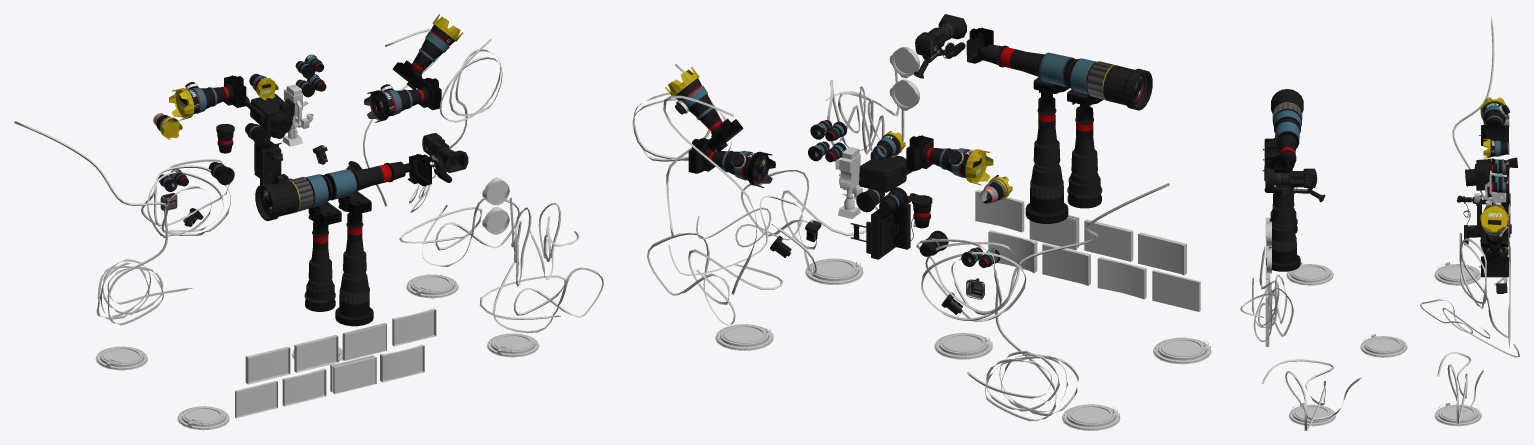
The model's file is Zvezda1.FBX.
3 views of the same model, side by side, from view 1: azimuth 30°, elevation 25°; view 2: azimuth 150°, elevation 25°; view 3: azimuth 270°, elevation 25° (orthographic). The views are drawn at different scales.
Parts seen in each view (by area): view 1: Box447, Lense004, Line111, Lense006 (×2), Group001, Lense003, Lense014, Lense005, Line128, Camera_B001, Camera001, Line115 (+14 smaller); view 2: Box447, Lense004, Group001, Line111, Lense006 (×2), Lense003, Lense005, Lense014, Lense013, Camera001, Line115, Camera_B001 (+15 smaller); view 3: Lense006 (×2), Lense004, Lense003, Camera001, Group001, Lense014, Line128, Line113, Window008, Window012, Window014, Window011 (+12 smaller).
Boxes of the visible parts, x1,y1,x2,y2 form: Box447: (235, 308, 436, 418); Lense004: (255, 161, 411, 221); Line111: (14, 121, 230, 325); Lense006 (×2): (364, 14, 463, 122); Group001: (153, 54, 326, 191); Lense003: (335, 212, 373, 326); Lense014: (169, 75, 246, 120); Lense005: (304, 222, 335, 311); Line128: (479, 262, 603, 333); Camera_B001: (244, 93, 294, 134); Camera001: (422, 133, 468, 182); Line115: (399, 198, 519, 266); Box447: (975, 190, 1200, 311); Lense004: (977, 44, 1152, 110); Group001: (808, 120, 1012, 267); Line111: (916, 183, 1169, 421); Lense006 (×2): (665, 67, 775, 187); Lense003: (1025, 91, 1068, 223); Lense005: (1067, 104, 1102, 208); Lense014: (906, 135, 993, 185); Lense013: (850, 193, 918, 259); Camera001: (914, 14, 966, 78); Line115: (647, 233, 783, 325); Camera_B001: (859, 151, 912, 192); Lense006 (×2): (1479, 204, 1509, 277); Lense004: (1271, 89, 1303, 171); Lense003: (1266, 185, 1300, 271); Camera001: (1264, 167, 1325, 203); Group001: (1483, 115, 1509, 205); Lense014: (1479, 97, 1509, 145); Line128: (1261, 359, 1361, 430); Line113: (1459, 232, 1509, 338); Window008: (1360, 334, 1407, 357); Window012: (1286, 262, 1333, 285); Window014: (1434, 402, 1481, 426); Window011: (1434, 262, 1480, 285).
Bounding box in the file's own units: 452 × 223 × 249.
